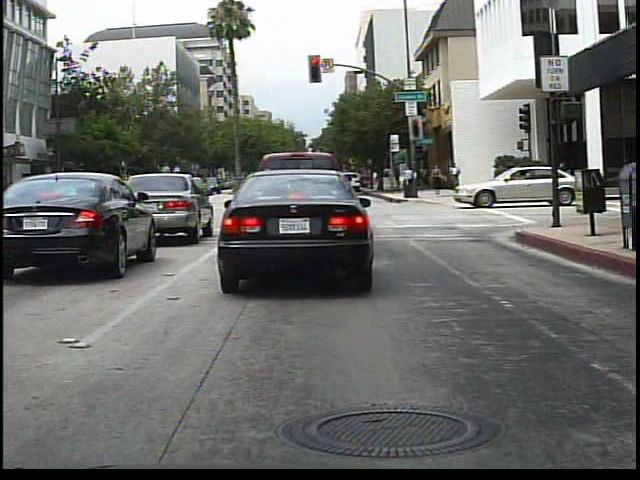person: (499, 156, 522, 200), (432, 160, 450, 197), (447, 161, 464, 193)
